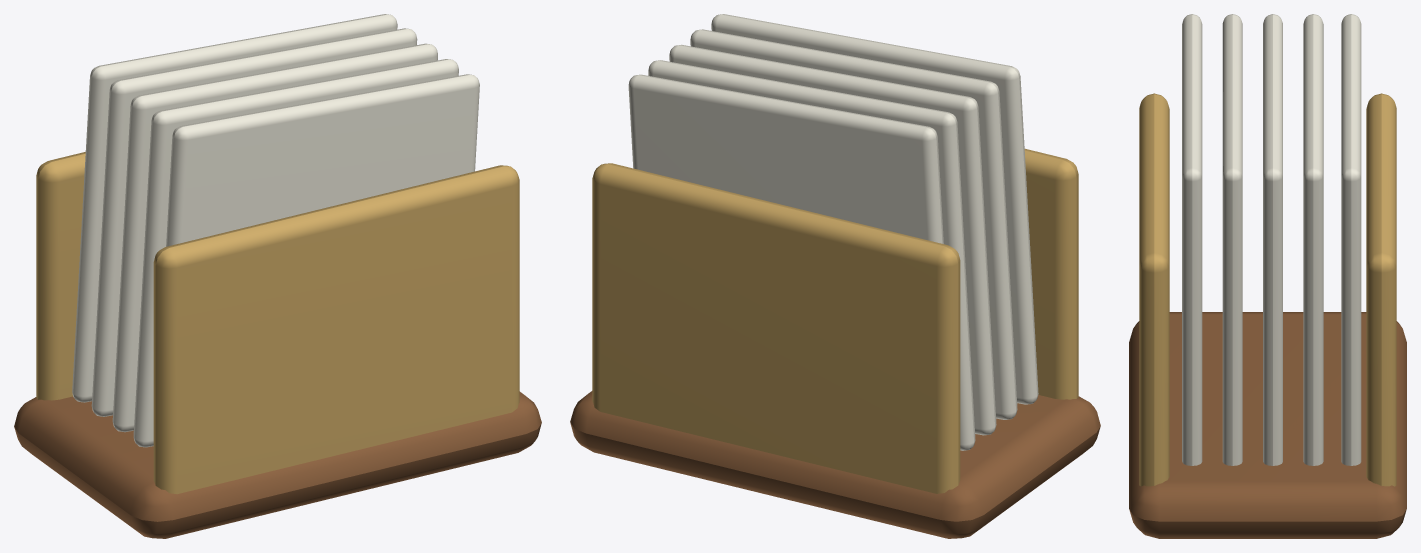
Rendered from HotelTogether-NapkinHolder.glb.
The picture shows the model from 3 angles, left to right: view 1: azimuth 30°, elevation 25°; view 2: azimuth 150°, elevation 25°; view 3: azimuth 270°, elevation 25°; orthographic projection. The views are drawn at different scales.
Parts seen in each view (by area): view 1: Napkin_Side, Napkin_Fold, Napkin_Base, Napkin_Fold.003, Napkin_Fold.002, Napkin_Fold.004, Napkin_Fold.001, Napkin_Side.001; view 2: Napkin_Side.001, Napkin_Fold.004, Napkin_Base, Napkin_Fold, Napkin_Fold.001, Napkin_Fold.002, Napkin_Side, Napkin_Fold.003; view 3: Napkin_Base, Napkin_Side, Napkin_Side.001, Napkin_Fold.001, Napkin_Fold.003, Napkin_Fold.004, Napkin_Fold, Napkin_Fold.002.
Boxes of the visible parts, box(x1,y1,x2,y2) form: Napkin_Side: box(153, 165, 519, 494); Napkin_Fold: box(166, 74, 479, 246); Napkin_Base: box(14, 391, 541, 538); Napkin_Fold.003: box(91, 28, 417, 416); Napkin_Fold.002: box(112, 43, 437, 432); Napkin_Fold.004: box(72, 14, 397, 402); Napkin_Fold.001: box(133, 59, 458, 447); Napkin_Side.001: box(36, 152, 85, 400); Napkin_Side.001: box(592, 163, 960, 493); Napkin_Fold.004: box(628, 74, 943, 243); Napkin_Base: box(570, 391, 1100, 538); Napkin_Fold: box(711, 14, 1038, 404); Napkin_Fold.001: box(690, 29, 1017, 419); Napkin_Fold.002: box(669, 44, 996, 435); Napkin_Side: box(1024, 148, 1078, 399); Napkin_Fold.003: box(648, 60, 975, 450); Napkin_Base: box(1129, 312, 1406, 538); Napkin_Side: box(1139, 93, 1169, 486); Napkin_Side.001: box(1366, 93, 1396, 486); Napkin_Fold.001: box(1222, 14, 1242, 465); Napkin_Fold.003: box(1303, 14, 1323, 465); Napkin_Fold.004: box(1341, 14, 1361, 465); Napkin_Fold: box(1182, 14, 1202, 465); Napkin_Fold.002: box(1263, 14, 1282, 465).
Size of the model in its own units: 0.18 by 0.1637 by 0.11.
